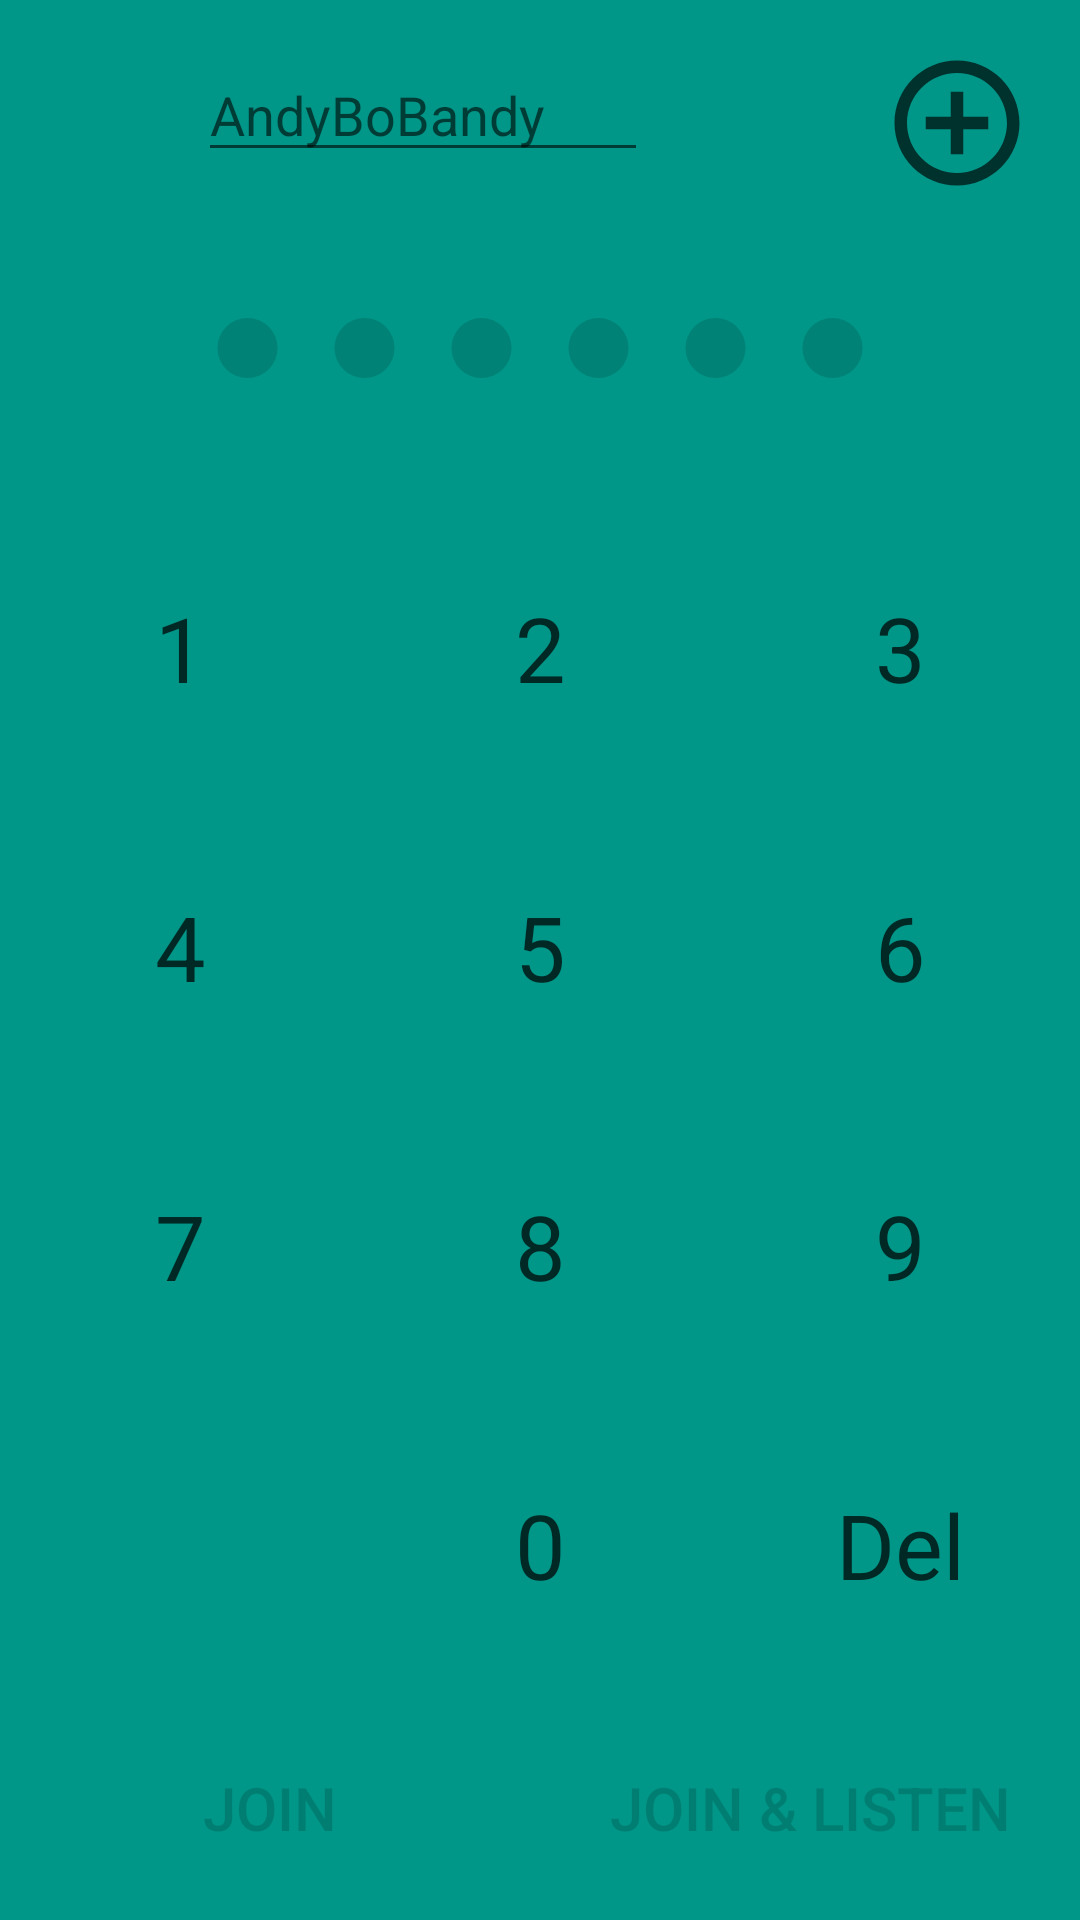

Screen size 1080x1920. Icon name, then its center in pixels as point (x, y):
add circle: point (957, 123)
